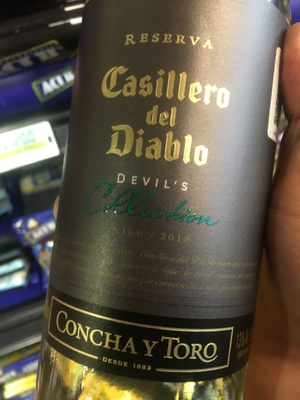casillero del diablo devils collection verde: (49, 4, 286, 400)
